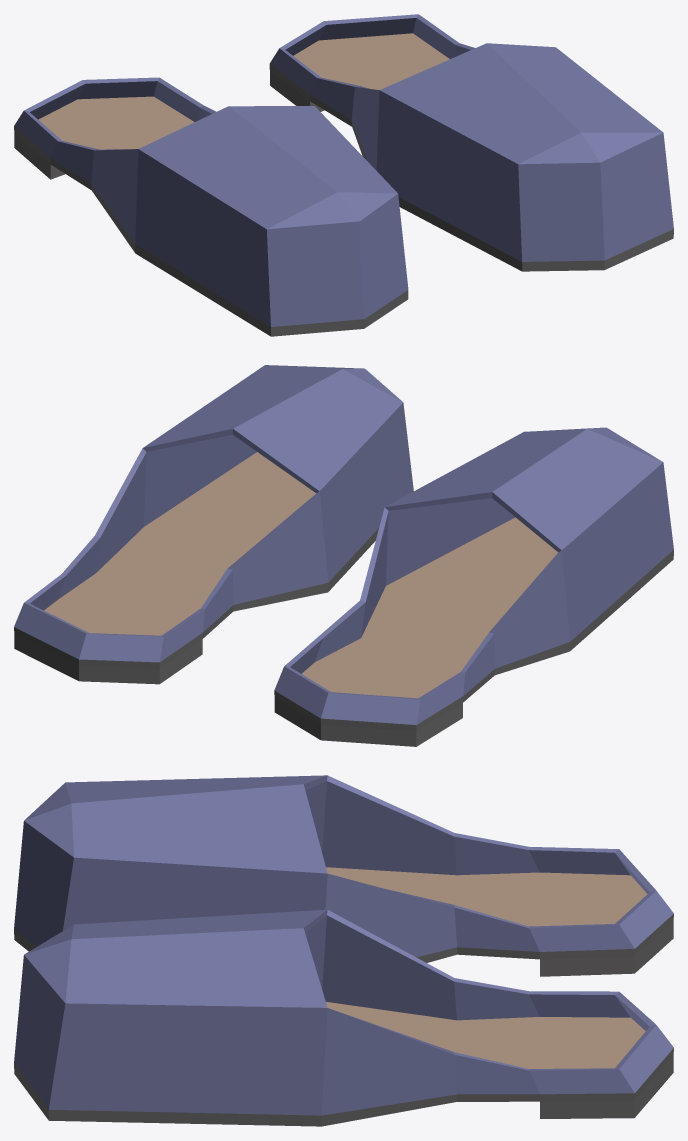
The model's file is Loafers_1.fbx.
3 views of the same model, one above another, from view 1: azimuth 30°, elevation 25°; view 2: azimuth 150°, elevation 25°; view 3: azimuth 270°, elevation 25° (orthographic). The views are drawn at different scales.
Visible parts, largest first — view 1: Loafers_1; view 2: Loafers_1; view 3: Loafers_1.
Part boxes in pixels (<box>): Loafers_1: <box>14,14,673,336</box>; Loafers_1: <box>14,365,673,746</box>; Loafers_1: <box>14,775,673,1126</box>.
Size of the model in its own units: 36.54 by 42.62 by 10.93.
